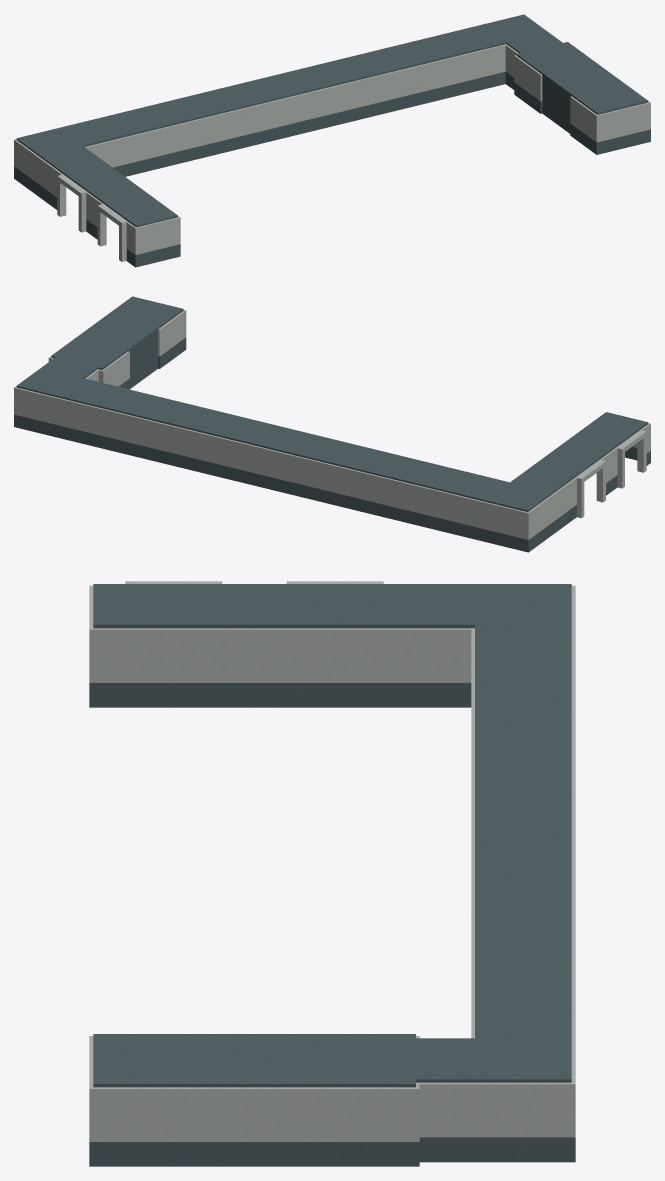
File: AST-RES-TIDAL_D13_service_receiving_r001.glb
3 renders of one model, top to bottom at view 1: azimuth 30°, elevation 25°; view 2: azimuth 150°, elevation 25°; view 3: azimuth 270°, elevation 25°, orthographic. The views are drawn at different scales.
Visible parts, largest first — view 1: TidalStaffRoof_D13_-3_-62_0, TidalStaffRoof_D13_-8_-63_0, TidalStaffWallHigh_D13_-4_-63_0, TidalStaffWallHigh_D13_-5_-63_0, TidalStaffWallHigh_D13_-7_-63_0, TidalStaffWallHigh_D13_-6_-63_0, TidalStaffRoof_D13_-6_-63_0, TidalStaffRoof_D13_-7_-63_0, TidalStaffRoof_D13_-5_-63_0, TidalStaffRoof_D13_-4_-63_0, TidalStaffRoof_D13_-8_-62_0, TidalStaffWallHigh_D13_-3_-61_0 (+16 smaller); view 2: TidalStaffWallHigh_D13_-8_-63_1, TidalStaffRoof_D13_-3_-62_0, TidalStaffRoof_D13_-8_-63_0, TidalStaffWallHigh_D13_-5_-63_1, TidalStaffWallHigh_D13_-7_-63_1, TidalStaffWallHigh_D13_-6_-63_1, TidalStaffWallHigh_D13_-4_-63_1, TidalStaffRoof_D13_-6_-63_0, TidalStaffRoof_D13_-5_-63_0, TidalStaffRoof_D13_-7_-63_0, TidalStaffRoof_D13_-4_-63_0, TidalStaffRoof_D13_-8_-62_0 (+14 smaller); view 3: TidalStaffWallHigh_D13_-8_-62_0, TidalStaffWallHigh_D13_-3_-62_1, TidalStaffRoof_D13_-3_-62_0, TidalStaffRoof_D13_-8_-63_0, TidalStaffRoof_D13_-8_-62_0, TidalStaffWallHigh_D13_-3_-63_1, TidalStaffRoof_D13_-7_-63_0, TidalStaffRoof_D13_-6_-63_0, TidalStaffRoof_D13_-5_-63_0, TidalStaffRoof_D13_-4_-63_0, TidalStaffRoof_D13_-3_-63_0, TidalStaffWallHigh_D13_-3_-61_0 (+10 smaller).
Part boxes in pixels (x1,y1,x2,y2): TidalStaffRoof_D13_-3_-62_0: (516, 42, 621, 94); TidalStaffRoof_D13_-8_-63_0: (16, 119, 119, 168); TidalStaffWallHigh_D13_-4_-63_0: (399, 47, 493, 97); TidalStaffWallHigh_D13_-5_-63_0: (306, 70, 400, 119); TidalStaffWallHigh_D13_-7_-63_0: (120, 115, 213, 165); TidalStaffWallHigh_D13_-6_-63_0: (213, 93, 306, 142); TidalStaffRoof_D13_-6_-63_0: (189, 73, 306, 115); TidalStaffRoof_D13_-7_-63_0: (96, 96, 212, 138); TidalStaffRoof_D13_-5_-63_0: (282, 51, 399, 92); TidalStaffRoof_D13_-4_-63_0: (375, 28, 492, 69); TidalStaffRoof_D13_-8_-62_0: (55, 156, 150, 207); TidalStaffWallHigh_D13_-3_-61_0: (570, 96, 650, 142); TidalStaffWallHigh_D13_-8_-63_1: (447, 483, 568, 539); TidalStaffRoof_D13_-3_-62_0: (51, 316, 156, 369); TidalStaffRoof_D13_-8_-63_0: (448, 471, 566, 511); TidalStaffWallHigh_D13_-5_-63_1: (165, 424, 259, 474); TidalStaffWallHigh_D13_-7_-63_1: (353, 470, 447, 519); TidalStaffWallHigh_D13_-6_-63_1: (259, 447, 353, 496); TidalStaffWallHigh_D13_-4_-63_1: (72, 401, 166, 451); TidalStaffRoof_D13_-6_-63_0: (260, 427, 377, 469); TidalStaffRoof_D13_-5_-63_0: (166, 404, 284, 446); TidalStaffRoof_D13_-7_-63_0: (354, 450, 471, 492); TidalStaffRoof_D13_-4_-63_0: (73, 381, 190, 423); TidalStaffRoof_D13_-8_-62_0: (525, 432, 621, 483); TidalStaffWallHigh_D13_-8_-62_0: (200, 628, 415, 682); TidalStaffWallHigh_D13_-3_-62_1: (200, 1087, 415, 1141); TidalStaffRoof_D13_-3_-62_0: (200, 1034, 415, 1087); TidalStaffRoof_D13_-8_-63_0: (416, 584, 571, 661); TidalStaffRoof_D13_-8_-62_0: (200, 584, 415, 628); TidalStaffWallHigh_D13_-3_-63_1: (416, 1028, 575, 1141); TidalStaffRoof_D13_-7_-63_0: (475, 661, 571, 751); TidalStaffRoof_D13_-6_-63_0: (475, 752, 571, 842); TidalStaffRoof_D13_-5_-63_0: (475, 843, 571, 933); TidalStaffRoof_D13_-4_-63_0: (475, 934, 571, 1024); TidalStaffRoof_D13_-3_-63_0: (416, 1024, 571, 1082); TidalStaffWallHigh_D13_-3_-61_0: (89, 1036, 200, 1141).
Bounding box in the file's own units: 44.68 × 3.34 × 18.08.
Materials: 4 (4 with a texture image).
